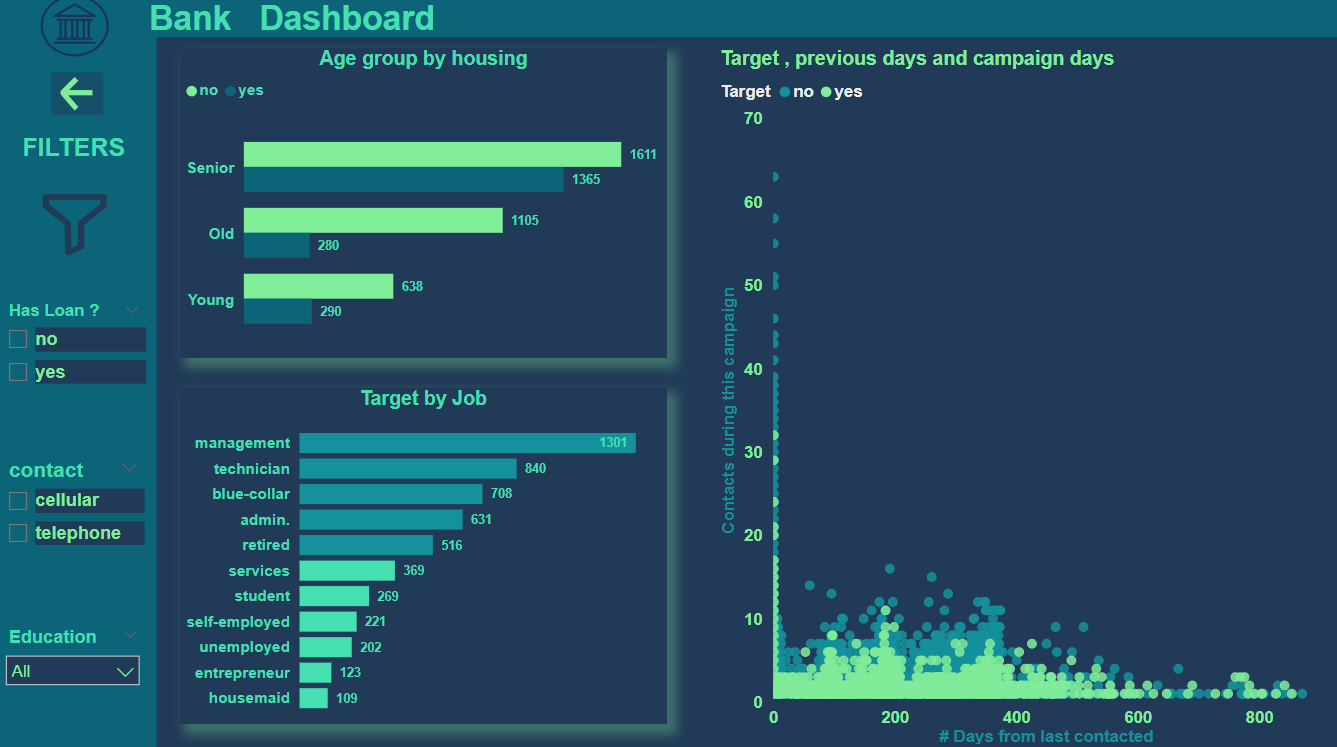

Layout of this report page (visuals, bound fields, positions):
{"tool":"powerbi","page":{"name":"Page 2","canvas":[1280,720],"ordinal":1},"visuals":[{"type":"clusteredBarChart","title":" Age group by housing","fields":{"Category":["bank-full.age_group"],"Y":["Sum(bank-full.target)"],"Series":["bank-full.housing"]},"box":[176.5,50.4,463.5,295.4],"z":0},{"type":"barChart","title":"Target by Job","fields":{"Category":["bank-full.job"],"Y":["Sum(bank-full.target)"]},"box":[176.5,373.4,463.5,320.6],"z":1000},{"type":"scatterChart","title":"Target , previous days and campaign days","fields":{"X":["bank-full.pdays"],"Y":["bank-full.campaign"],"Series":["bank-full.Target_deposit"]},"box":[685.5,50,595,670],"z":3002},{"type":"slicer","fields":{"Values":["bank-full.loan"]},"box":[0,287,148.9,98.5],"z":3003},{"type":"slicer","fields":{"Values":["bank-full.contact"]},"box":[0,435.9,147.7,106.9],"z":3004},{"type":"slicer","fields":{"Values":["bank-full.education"]},"box":[0,596.8,147.7,80.5],"z":3005},{"type":"textbox","box":[16.7,127.3,116.6,38.1],"z":3006},{"type":"textbox","box":[119.7,0,325,59.9],"z":3007},{"type":"actionButton","box":[53.6,73.8,50,40.5],"z":3008}]}

Visuals, with their boxes in screenshot pixels (x1, y1, x2, y2), scaled from the page's 1280x720 canvas onto the 1337x747 screenshot:
" Age group by housing" clusteredBarChart: [left=184, top=52, right=668, bottom=359]
"Target by Job" barChart: [left=184, top=387, right=668, bottom=720]
"Target , previous days and campaign days" scatterChart: [left=716, top=52, right=1336, bottom=746]
slicer - bank-full.loan: [left=0, top=298, right=156, bottom=400]
slicer - bank-full.contact: [left=0, top=452, right=154, bottom=563]
slicer - bank-full.education: [left=0, top=619, right=154, bottom=703]
textbox: [left=17, top=132, right=139, bottom=172]
textbox: [left=125, top=0, right=465, bottom=62]
actionButton: [left=56, top=77, right=108, bottom=119]
